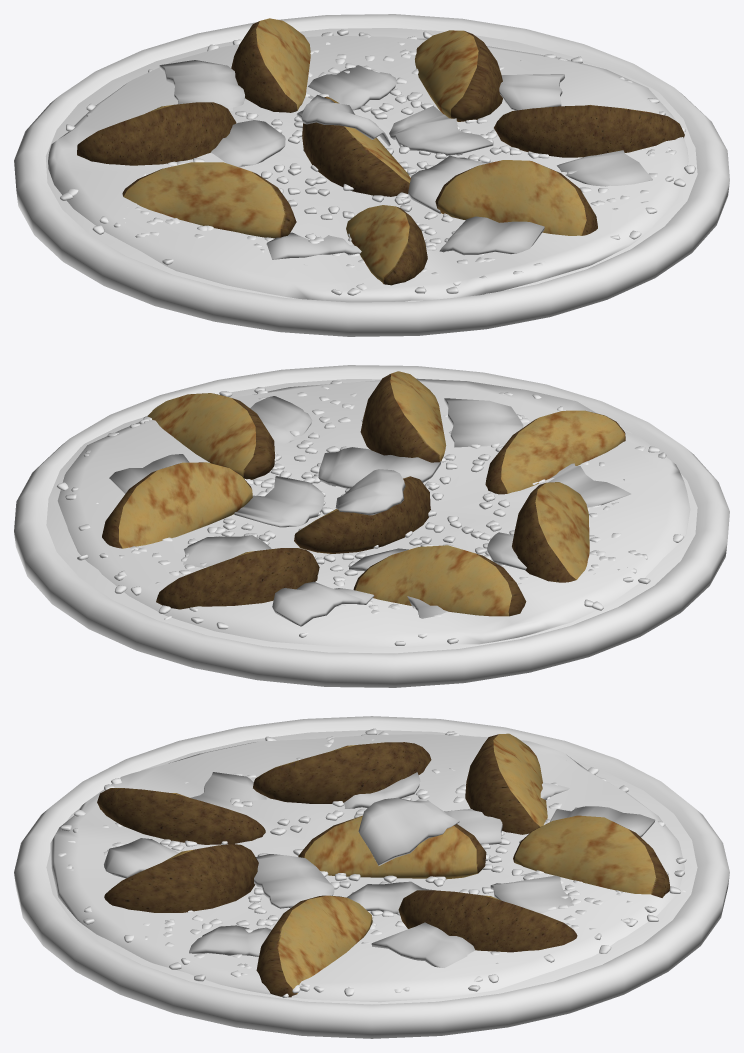
File: Bacon_pizza.fbx
3 views of the same model, one above another, from view 1: azimuth 30°, elevation 25°; view 2: azimuth 150°, elevation 25°; view 3: azimuth 270°, elevation 25° (orthographic).
Visible parts, largest first — view 1: pizzacheese.003, potatao.001, pizzadow_burn_low.003, potatao.002, corn.003, pizzasource.003; view 2: pizzacheese.003, potatao.001, pizzadow_burn_low.003, potatao.002, corn.003, pizzasource.003; view 3: potatao.001, pizzacheese.003, pizzadow_burn_low.003, potatao.002, pizzasource.003, corn.003.
Boxes of the visible parts, box(x1,y1,x2,y2) form: pizzacheese.003: box(48, 35, 688, 302); potatao.001: box(77, 18, 684, 285); pizzadow_burn_low.003: box(14, 14, 729, 336); potatao.002: box(159, 60, 652, 259); corn.003: box(60, 29, 695, 295); pizzasource.003: box(45, 28, 697, 301); pizzacheese.003: box(57, 378, 690, 646); potatao.001: box(102, 371, 625, 616); pizzadow_burn_low.003: box(14, 365, 729, 687); potatao.002: box(109, 396, 630, 626); corn.003: box(57, 374, 683, 645); pizzasource.003: box(46, 379, 697, 653); potatao.001: box(97, 733, 670, 997); pizzacheese.003: box(50, 734, 684, 1002); pizzadow_burn_low.003: box(14, 716, 729, 1038); potatao.002: box(104, 772, 655, 967); pizzasource.003: box(46, 730, 697, 1004); corn.003: box(58, 728, 686, 997).
Size of the model in its own units: 23.79 by 3.09 by 23.79.
